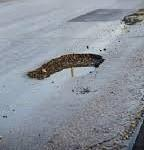pothole: (26, 48, 105, 85)
